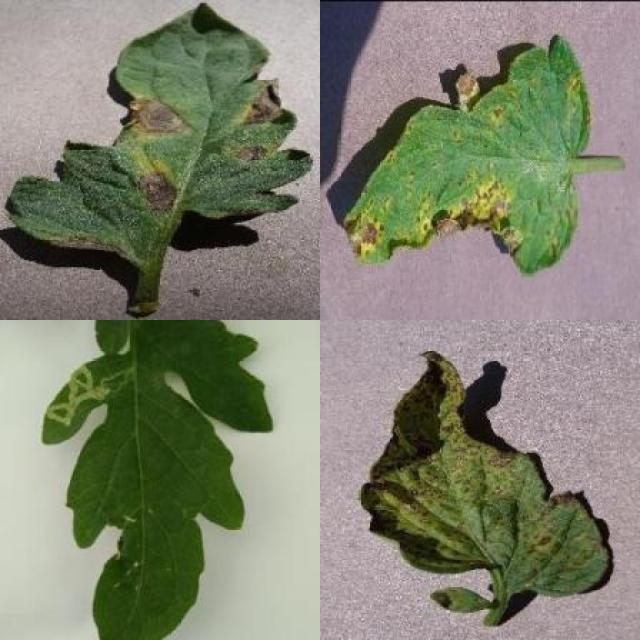Early Blight: (11, 3, 313, 264)
Leaf Miner: (39, 320, 274, 639)
Septoria: (362, 349, 611, 597), (344, 34, 589, 275)
